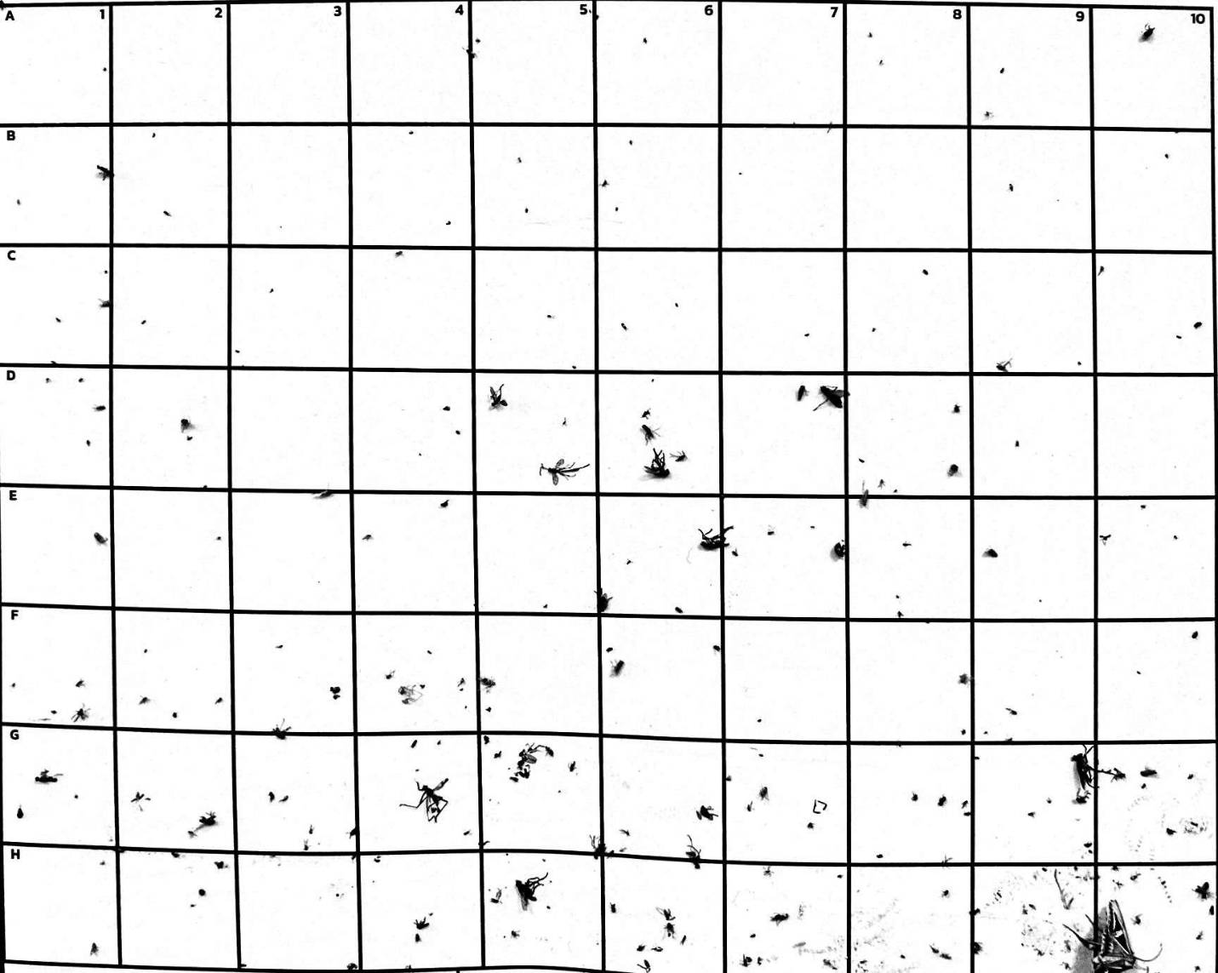fly: (1070, 742, 1127, 790), (512, 872, 553, 914), (813, 378, 852, 415), (693, 524, 736, 550), (642, 445, 673, 480)
test: (1061, 897, 1169, 973), (400, 778, 454, 823), (540, 458, 592, 487), (395, 683, 430, 707), (683, 832, 704, 871), (511, 742, 542, 768), (590, 835, 615, 861), (693, 801, 720, 823), (192, 809, 221, 829), (270, 716, 292, 742), (130, 787, 152, 813), (484, 387, 508, 410), (640, 421, 662, 446), (593, 589, 614, 615), (608, 657, 629, 680), (34, 769, 63, 785), (1193, 880, 1214, 901), (656, 902, 677, 923), (1139, 21, 1159, 43), (95, 163, 117, 182), (1070, 788, 1093, 806), (69, 706, 92, 724), (995, 358, 1016, 376), (314, 486, 336, 503), (769, 910, 792, 926), (831, 540, 849, 559), (1139, 764, 1160, 780), (796, 383, 812, 403), (983, 544, 1001, 561), (92, 530, 109, 548), (946, 462, 963, 479), (757, 784, 773, 802), (177, 417, 195, 433), (663, 921, 678, 940), (670, 449, 689, 464), (488, 889, 504, 906), (412, 917, 431, 931), (477, 676, 499, 688), (858, 488, 870, 510), (637, 957, 652, 973), (328, 684, 342, 701), (543, 744, 557, 760), (1003, 705, 1020, 718), (1131, 912, 1145, 927), (970, 940, 984, 955), (436, 498, 451, 512), (1098, 530, 1112, 545), (463, 47, 479, 60), (98, 297, 114, 310), (941, 854, 954, 869), (958, 671, 971, 686), (515, 768, 532, 779), (740, 954, 753, 968), (137, 695, 152, 707), (169, 849, 182, 862), (1164, 827, 1178, 839), (936, 794, 948, 808), (1128, 872, 1143, 883), (89, 941, 100, 956), (649, 944, 665, 954), (1097, 263, 1107, 279), (760, 867, 773, 879), (348, 826, 361, 838), (362, 531, 374, 544), (1192, 319, 1204, 332), (1206, 904, 1217, 918), (967, 907, 981, 918), (1064, 939, 1074, 954), (608, 901, 618, 916), (909, 791, 921, 803), (214, 859, 226, 871), (1190, 629, 1201, 642), (566, 760, 577, 773), (619, 827, 632, 838), (641, 408, 654, 419), (277, 794, 291, 804), (482, 734, 492, 748), (186, 828, 200, 838), (15, 806, 25, 820), (939, 953, 954, 962), (383, 670, 395, 681), (619, 320, 630, 332), (1060, 961, 1073, 971), (672, 605, 685, 615), (453, 677, 466, 687), (301, 840, 311, 853), (74, 679, 87, 689), (93, 403, 106, 413), (744, 802, 755, 813), (213, 696, 224, 707), (510, 928, 521, 939), (492, 749, 503, 760), (599, 177, 610, 188), (1195, 930, 1205, 942), (346, 961, 358, 971), (307, 824, 317, 836), (896, 609, 906, 621), (1026, 810, 1039, 819), (952, 402, 961, 415), (477, 839, 491, 847), (1083, 840, 1093, 851), (940, 889, 951, 899), (711, 643, 722, 653), (1004, 736, 1015, 746), (197, 887, 207, 898), (349, 851, 360, 861), (983, 109, 993, 120), (1026, 902, 1038, 911), (928, 945, 940, 954), (961, 810, 973, 819), (410, 738, 419, 750), (901, 540, 913, 549), (755, 955, 763, 968), (959, 798, 969, 808), (604, 645, 614, 655), (162, 208, 172, 218), (679, 934, 688, 945), (414, 932, 423, 943), (560, 416, 569, 427), (393, 250, 404, 259), (267, 790, 275, 802), (1140, 782, 1149, 792), (434, 739, 444, 748), (723, 775, 733, 784), (373, 856, 382, 866), (1139, 502, 1148, 512), (405, 963, 414, 973), (442, 403, 451, 413), (1187, 771, 1195, 782), (461, 829, 472, 837), (171, 710, 179, 721), (641, 35, 649, 46), (878, 478, 885, 490), (1193, 964, 1202, 973), (1013, 439, 1022, 448), (857, 456, 866, 465), (921, 267, 930, 276), (1111, 863, 1121, 871), (806, 822, 816, 830), (542, 602, 550, 612), (1045, 796, 1053, 806), (636, 944, 646, 952), (49, 708, 59, 716), (215, 533, 223, 543), (1008, 181, 1016, 191), (53, 317, 64, 324), (875, 853, 884, 861), (835, 872, 844, 880), (624, 558, 632, 567), (619, 846, 627, 855), (275, 643, 284, 651), (202, 483, 210, 492), (869, 326, 878, 334), (444, 219, 453, 227), (756, 716, 763, 726), (959, 728, 967, 736), (1041, 866, 1050, 873), (750, 931, 757, 940), (674, 300, 681, 309), (1175, 332, 1182, 341), (571, 362, 578, 371), (473, 37, 482, 44), (15, 197, 22, 206), (233, 347, 242, 354), (49, 359, 58, 366), (85, 438, 92, 447), (757, 752, 767, 758), (237, 962, 247, 968), (1172, 533, 1178, 543), (730, 551, 740, 557), (1072, 865, 1080, 872), (425, 649, 432, 657), (414, 767, 422, 774), (899, 953, 906, 961), (72, 792, 80, 799), (767, 529, 775, 536), (972, 754, 980, 761), (803, 331, 811, 338), (454, 429, 461, 437), (867, 32, 875, 39), (999, 66, 1006, 74), (102, 65, 109, 73), (103, 268, 111, 275), (141, 319, 148, 327), (186, 435, 194, 442), (44, 375, 51, 383), (77, 377, 85, 384), (486, 705, 492, 714), (1076, 359, 1082, 368), (545, 313, 554, 319), (1164, 152, 1170, 161), (628, 138, 634, 147), (11, 681, 18, 688), (892, 488, 899, 495), (516, 156, 523, 163), (150, 131, 157, 138), (268, 288, 275, 295), (810, 523, 816, 531), (982, 729, 990, 735), (523, 206, 529, 214), (613, 205, 619, 213), (406, 130, 414, 136), (1135, 669, 1142, 675), (334, 892, 340, 899), (878, 58, 884, 65), (99, 860, 106, 866), (190, 902, 196, 908), (895, 593, 901, 599), (650, 378, 656, 384), (143, 647, 148, 654), (737, 170, 741, 177)
